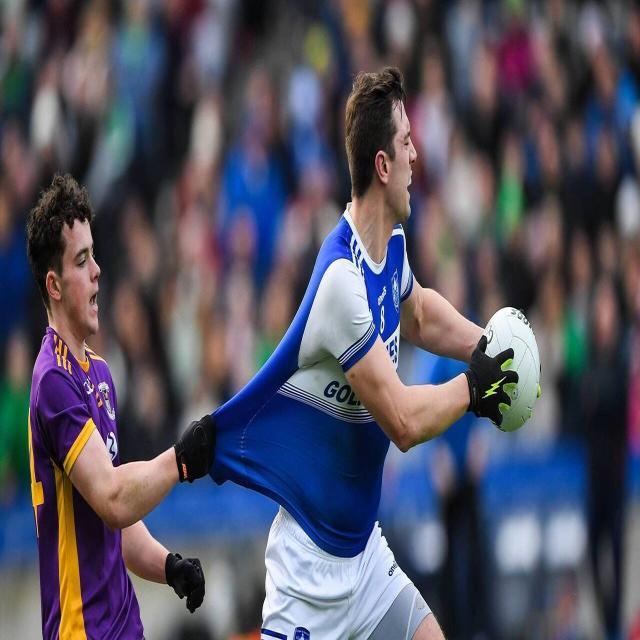collide: (174, 406, 216, 501)
hurt: (342, 74, 422, 214)
possible foul: (110, 268, 290, 550)
